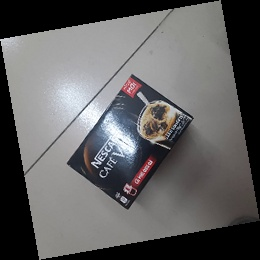CF Viet: (65, 74, 194, 210)
